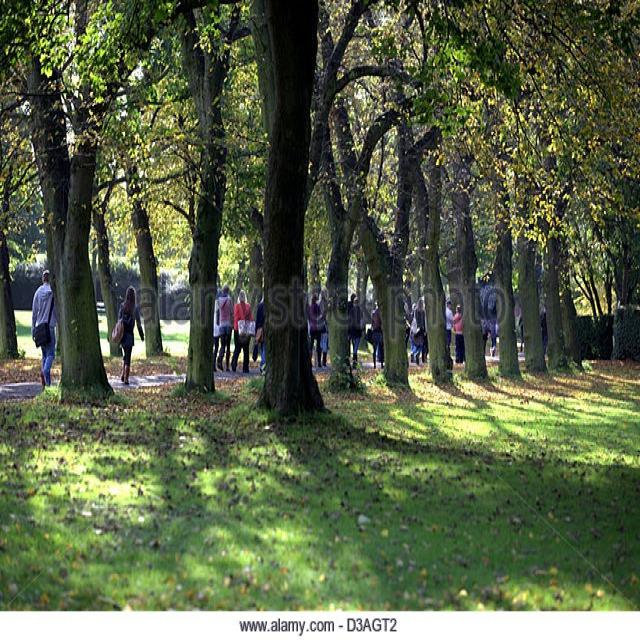body: (249, 288, 555, 374), (110, 284, 146, 388), (30, 268, 58, 391), (229, 286, 257, 378), (215, 282, 235, 374), (213, 287, 223, 373)
